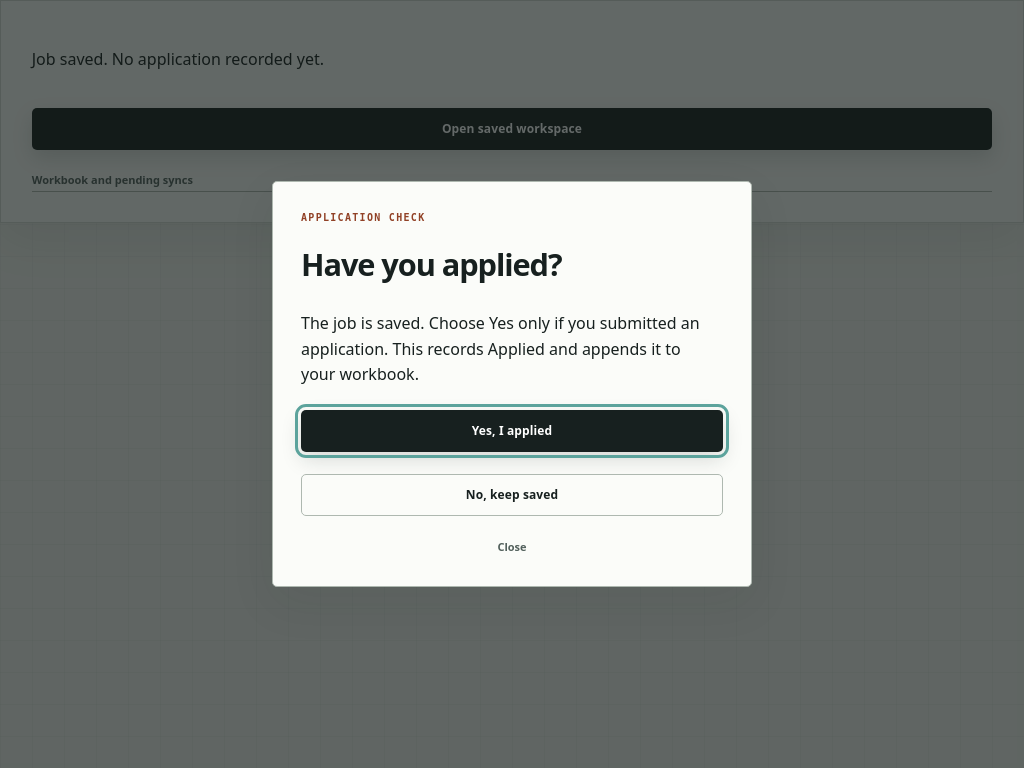
only Yes posts explicit confirmation and shows the workbook outcome
The image size is (1024, 768).
What coordinates should you click on to do the following:
click the button "Yes, I applied"
I would click on:
 (512, 431)
Its box is [301,410,723,452].
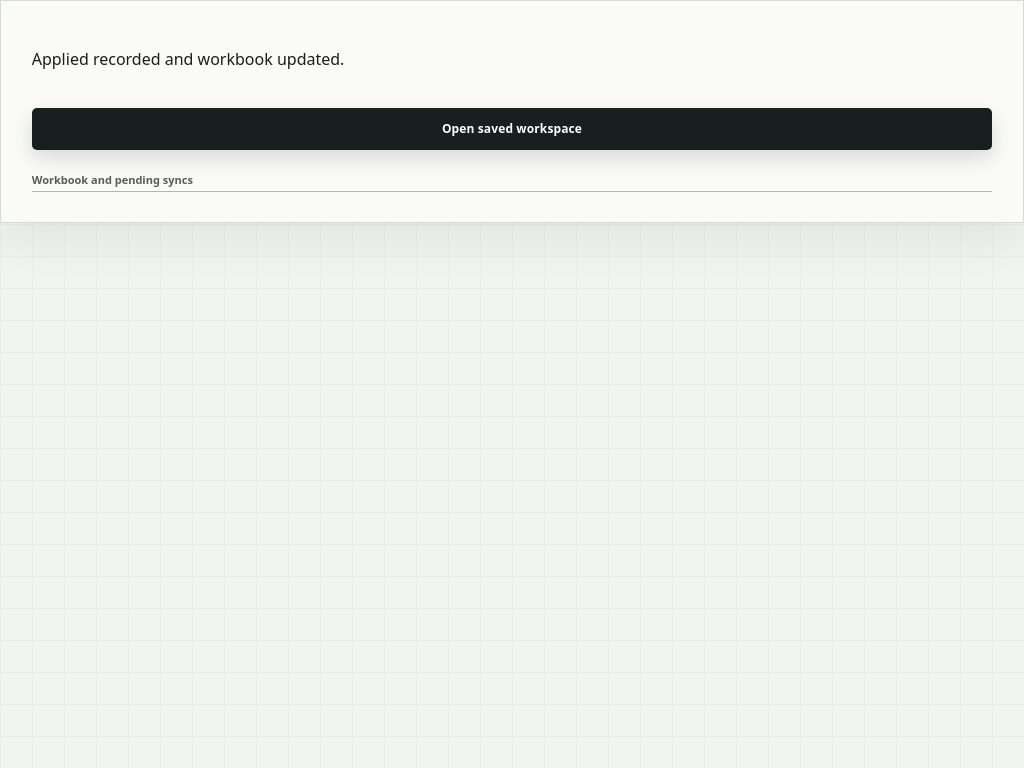
Check: the text "Applied recorded and workbook updated." is shown, box [32,48,344,70]
